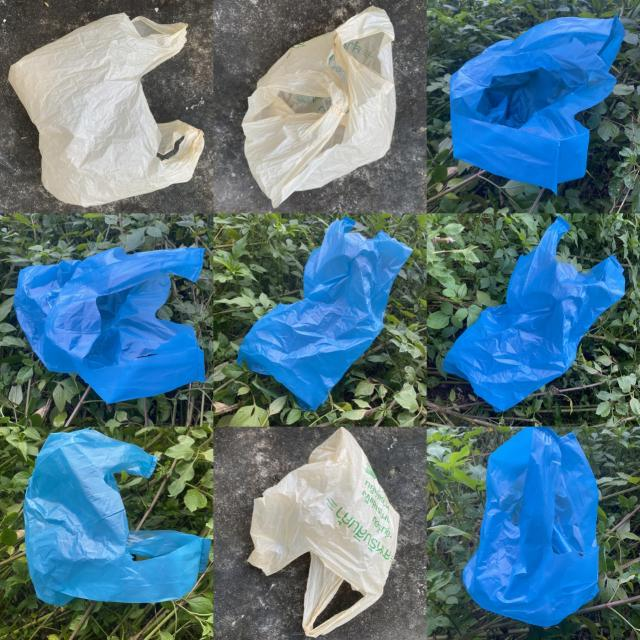Single-layer Plastic: (9, 14, 204, 206), (442, 216, 625, 411), (238, 216, 412, 410), (24, 429, 211, 606), (249, 428, 399, 637), (242, 6, 396, 208), (450, 16, 624, 192), (14, 248, 205, 404), (462, 428, 599, 626)
